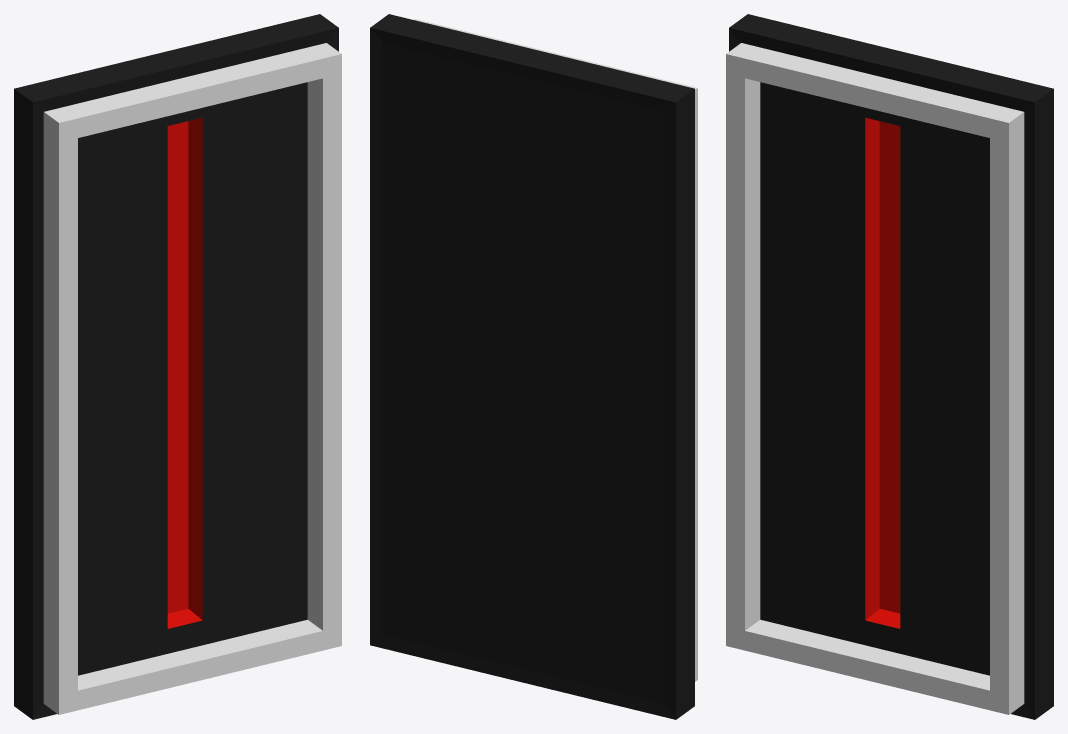
Rendered from Switch.fbx.
3 renders of one model, left to right at view 1: azimuth 30°, elevation 25°; view 2: azimuth 150°, elevation 25°; view 3: azimuth 330°, elevation 25°, orthographic.
Parts seen in each view (by area): view 1: Switch; view 2: Switch; view 3: Switch.
Part boxes in pixels (<box>): Switch: <box>14,14,341,719</box>; Switch: <box>370,14,697,719</box>; Switch: <box>726,14,1053,719</box>.
Size of the model in its own units: 216 by 417 by 40.87.
